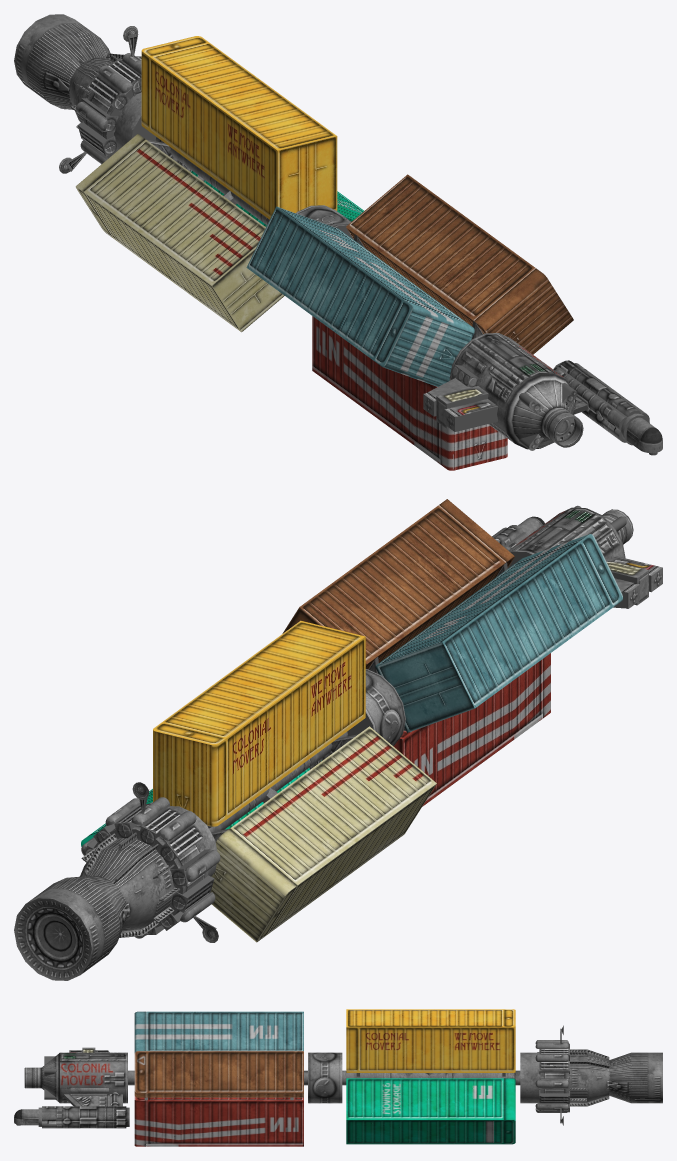
File: Colonial Movers Freighter.fbx
The picture shows the model from 3 angles, top to bottom: view 1: azimuth 30°, elevation 25°; view 2: azimuth 150°, elevation 25°; view 3: azimuth 270°, elevation 25°; orthographic projection. The views are drawn at different scales.
Visible parts, largest first — view 1: colclm1cox1; view 2: colclm1cox1; view 3: colclm1cox1.
Part boxes in pixels (x1,y1,x2,y2): colclm1cox1: (14,14,662,470); colclm1cox1: (14,499,662,980); colclm1cox1: (14,1009,662,1146).
Size of the model in its own units: 56.03 by 268 by 54.6.
Materials: 2 (1 with a texture image).
